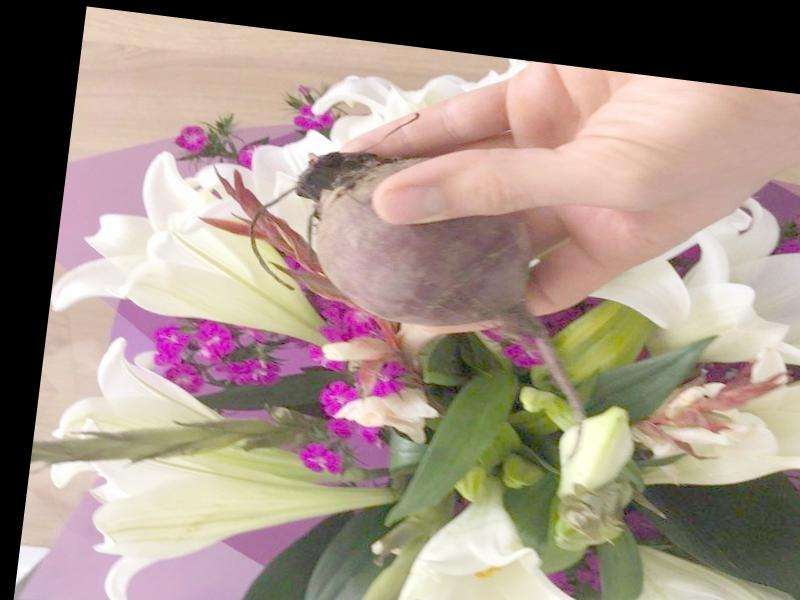Beet: (226, 138, 614, 464)
